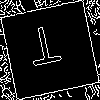T: (25, 24, 65, 76)
